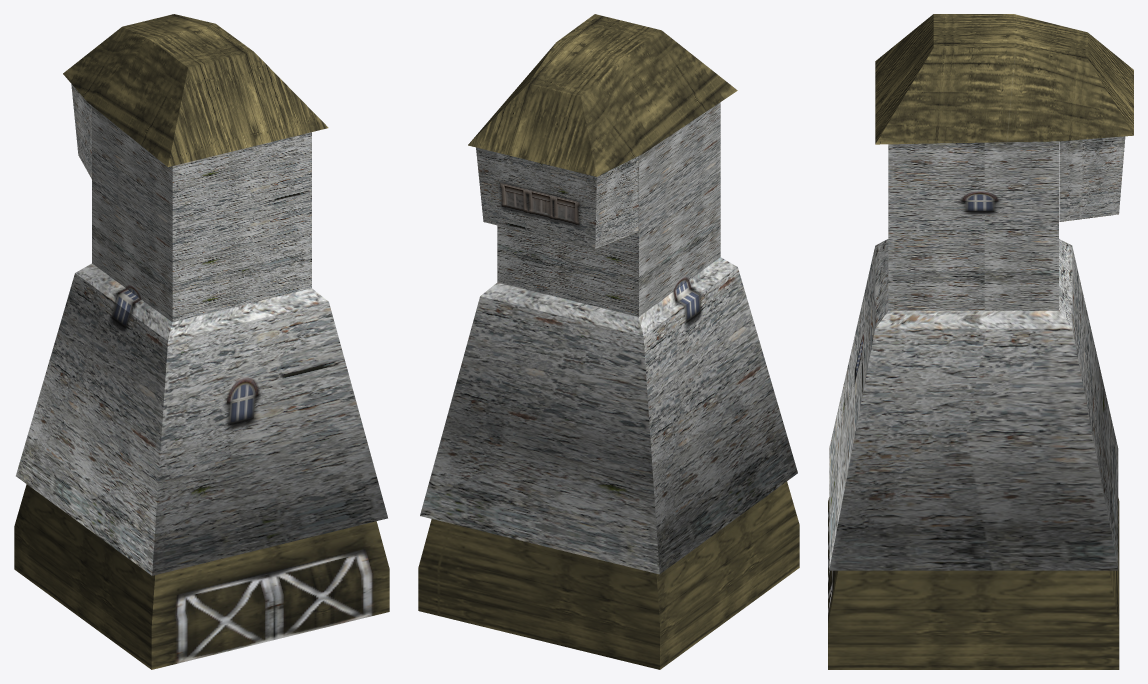
The model's file is MillMain.fbx.
The picture shows the model from 3 angles, left to right: view 1: azimuth 30°, elevation 25°; view 2: azimuth 150°, elevation 25°; view 3: azimuth 270°, elevation 25°; orthographic projection. The views are drawn at different scales.
Visible parts, largest first — view 1: polySurface75; view 2: polySurface75; view 3: polySurface75.
Boxes of the visible parts, x1=… form: polySurface75: x1=14, y1=14, x2=389, y2=669; polySurface75: x1=418, y1=14, x2=799, y2=669; polySurface75: x1=828, y1=14, x2=1133, y2=669.
Bounding box in the file's own units: 714 × 1562 × 750.
